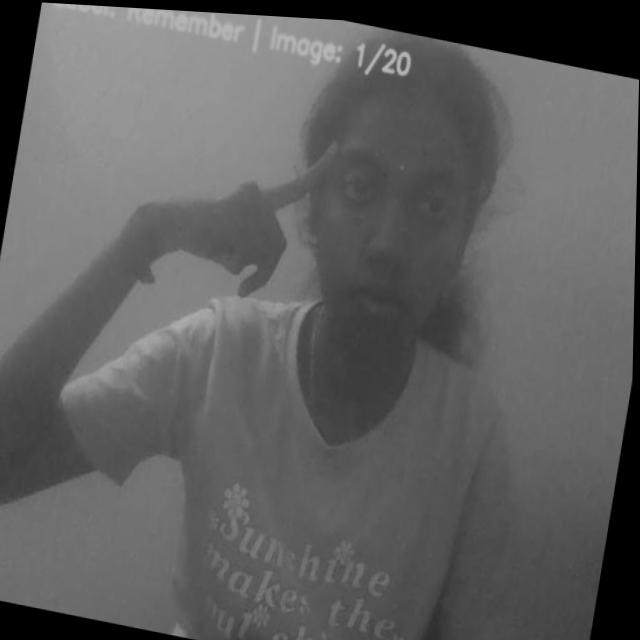Remember: (113, 88, 352, 313)
